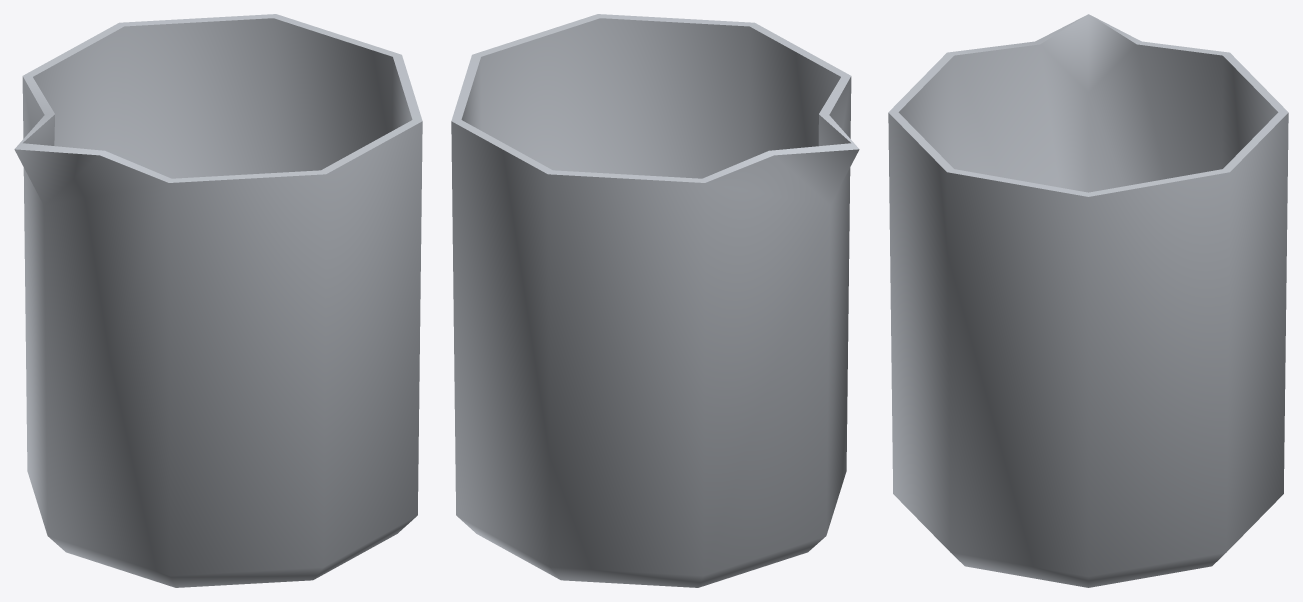
File: bottle_glassware_beaker_large.glb
3 views of the same model, side by side, from view 1: azimuth 30°, elevation 25°; view 2: azimuth 150°, elevation 25°; view 3: azimuth 270°, elevation 25° (orthographic). The views are drawn at different scales.
Visible parts, largest first — view 1: bottle_glassware_beaker_large; view 2: bottle_glassware_beaker_large; view 3: bottle_glassware_beaker_large.
Part boxes in pixels (x1,y1,x2,y2): bottle_glassware_beaker_large: (14, 14, 422, 587); bottle_glassware_beaker_large: (451, 14, 859, 587); bottle_glassware_beaker_large: (888, 14, 1288, 587).
Size of the model in its own units: 0.3672 by 0.38 by 0.3398.
1 material, 1 textured.
